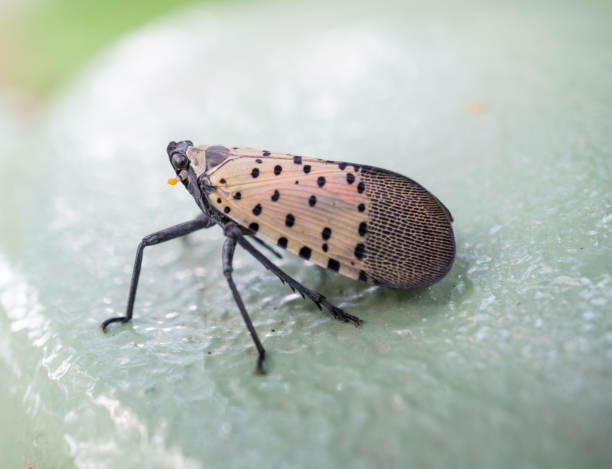adult: (103, 129, 454, 371)
